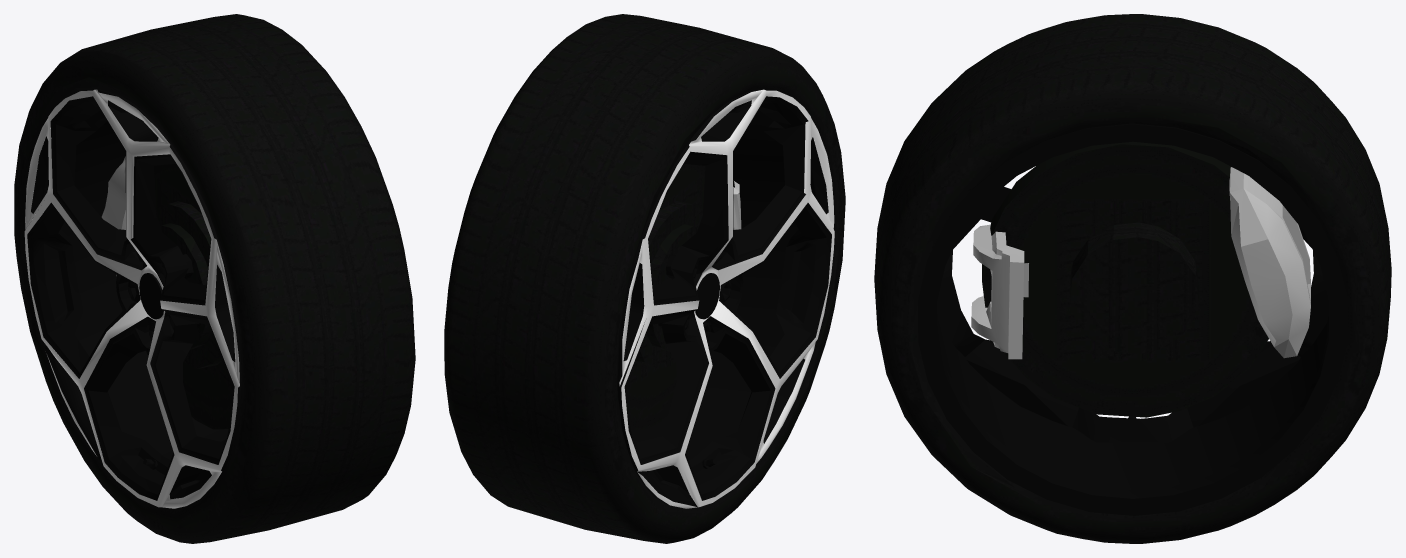
File: huracan-rims-tires-lb.glb
3 views of the same model, side by side, from view 1: azimuth 30°, elevation 25°; view 2: azimuth 150°, elevation 25°; view 3: azimuth 270°, elevation 25° (orthographic).
Parts seen in each view (by area): view 1: Object_257, Object_257.002; view 2: Object_257, Object_257.002; view 3: Object_257.002, Object_257.
Boxes of the visible parts, x1,y1,x2,y2 form: Object_257: (14,14,415,543); Object_257.002: (24,89,241,508); Object_257: (444,14,845,543); Object_257.002: (617,89,834,508); Object_257.002: (918,123,1347,515); Object_257: (874,14,1391,543).
Size of the model in its own units: 1.08 by 2.81 by 2.81.
5 materials, 1 textured.
